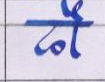ai_matra: (62, 0, 87, 21)
